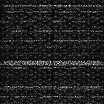lte: (1, 60, 104, 66), (1, 85, 104, 89), (1, 3, 104, 7)
